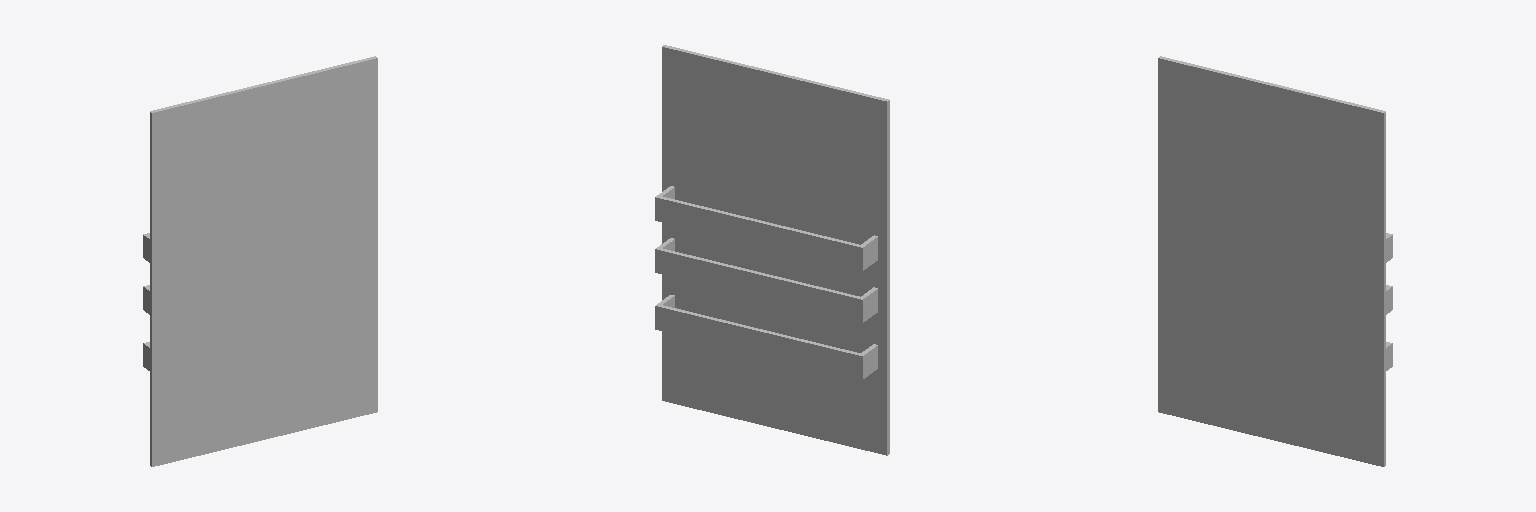
The model's file is KitchenOPEN_Export-20.obj.
3 renders of one model, left to right at view 1: azimuth 30°, elevation 25°; view 2: azimuth 150°, elevation 25°; view 3: azimuth 330°, elevation 25°, orthographic.
Parts seen in each view (by area): view 1: KitchenOPEN_Export-20; view 2: KitchenOPEN_Export-20; view 3: KitchenOPEN_Export-20.
Part boxes in pixels (left/top/right/bottom): KitchenOPEN_Export-20: left=143, top=56, right=377, bottom=466; KitchenOPEN_Export-20: left=655, top=45, right=889, bottom=455; KitchenOPEN_Export-20: left=1158, top=56, right=1392, bottom=466.
Size of the model in its own units: 50 by 75 by 7.